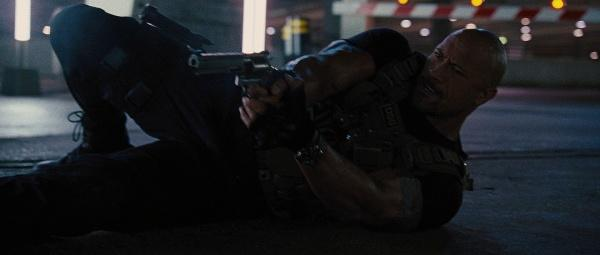Gun: (188, 50, 277, 95)
